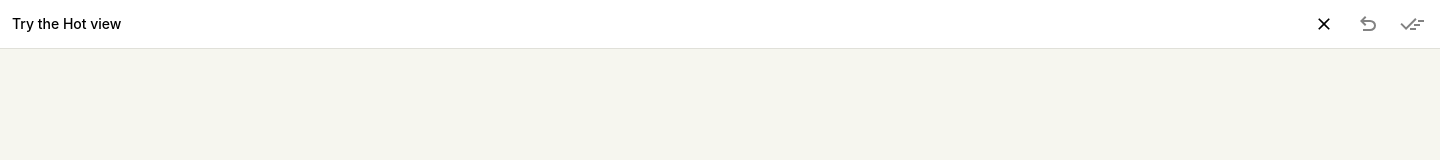
Test: <ListToolbar> › with showHomePromo › clicking dismiss hides the link and persists the flag, leaving Undo and Sweep in place
Click the button with test id "home-promo-dismiss". click: click(1324, 24)
box: [1304, 4, 1344, 44]
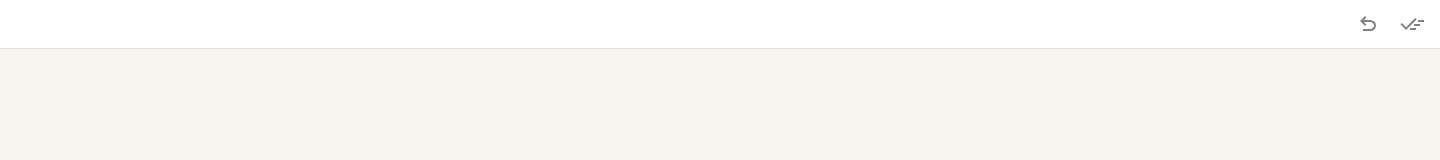
Expected: the button with test id "undo-btn" is shown, [1348, 4, 1388, 44]
Expected: the link with test id "home-promo-link" is gone
Expected: the button with test id "home-promo-dismiss" is gone
